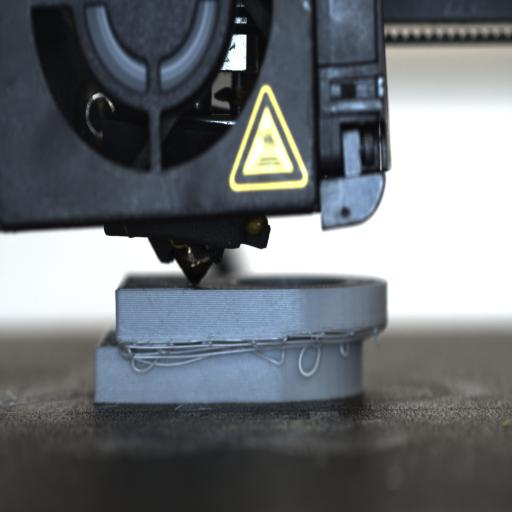layer_shift: (94, 326, 384, 362)
